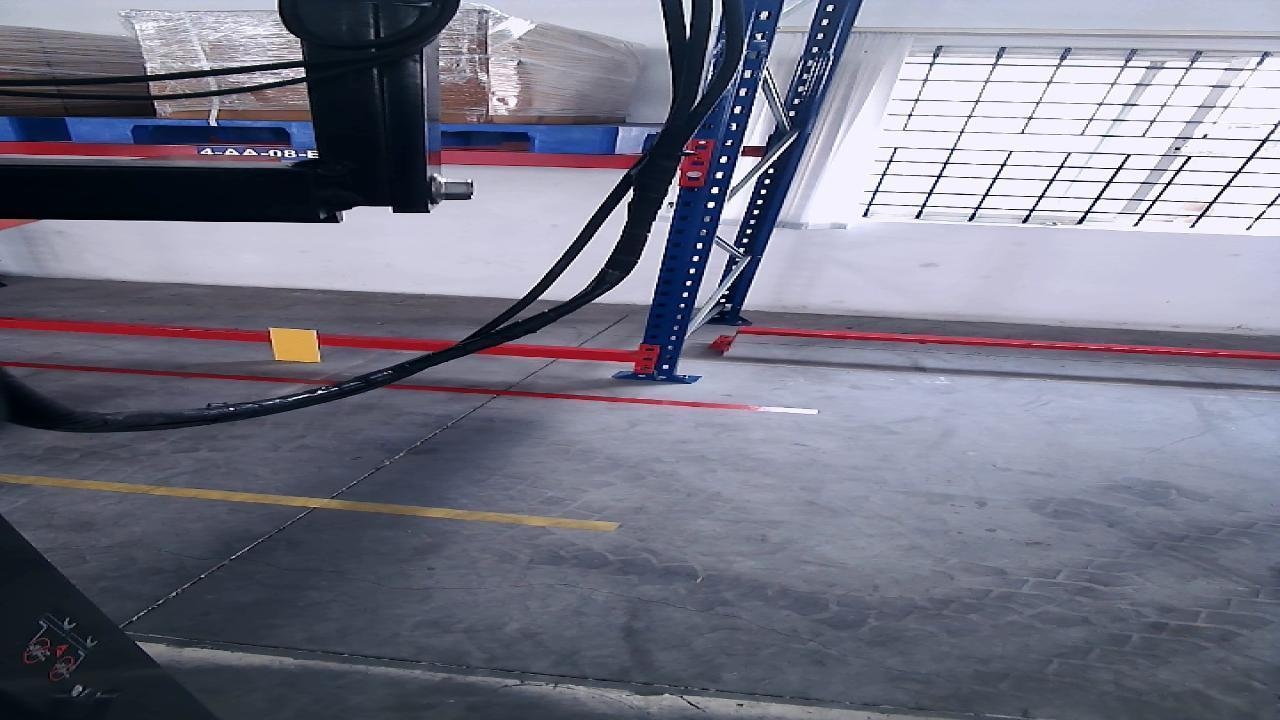red_line: (0, 361, 814, 414)
yellow_line: (4, 474, 617, 529)
